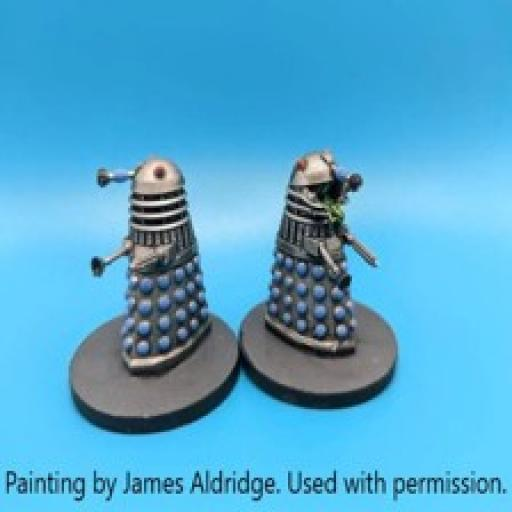dalek: (80, 156, 220, 376), (267, 153, 363, 363)
